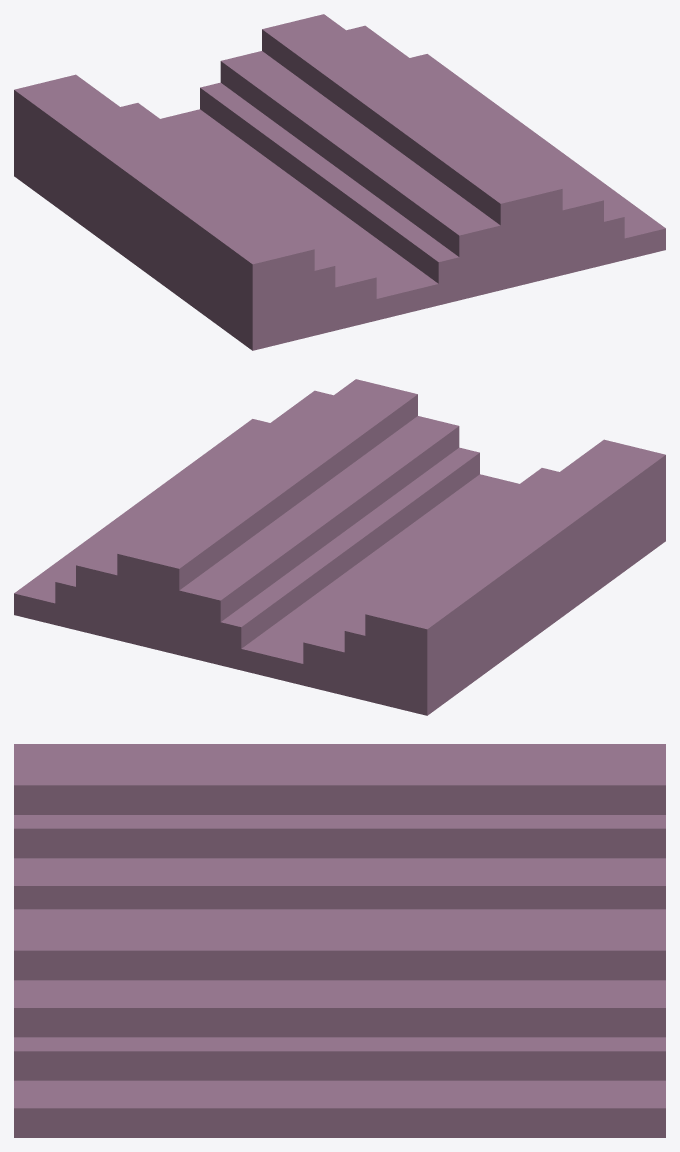
The model's file is alien-biosphere-dune-tile-5e706d84__22755.glb.
3 views of the same model, one above another, from view 1: azimuth 30°, elevation 25°; view 2: azimuth 150°, elevation 25°; view 3: azimuth 270°, elevation 25° (orthographic). The views are drawn at different scales.
Parts seen in each view (by area): view 1: dune-tile; view 2: dune-tile; view 3: dune-tile.
Part boxes in pixels (x1=…): dune-tile: x1=14, y1=14, x2=665, y2=350; dune-tile: x1=14, y1=379, x2=665, y2=715; dune-tile: x1=14, y1=744, x2=665, y2=1137.
Size of the model in its own units: 4 by 0.7998 by 4.
